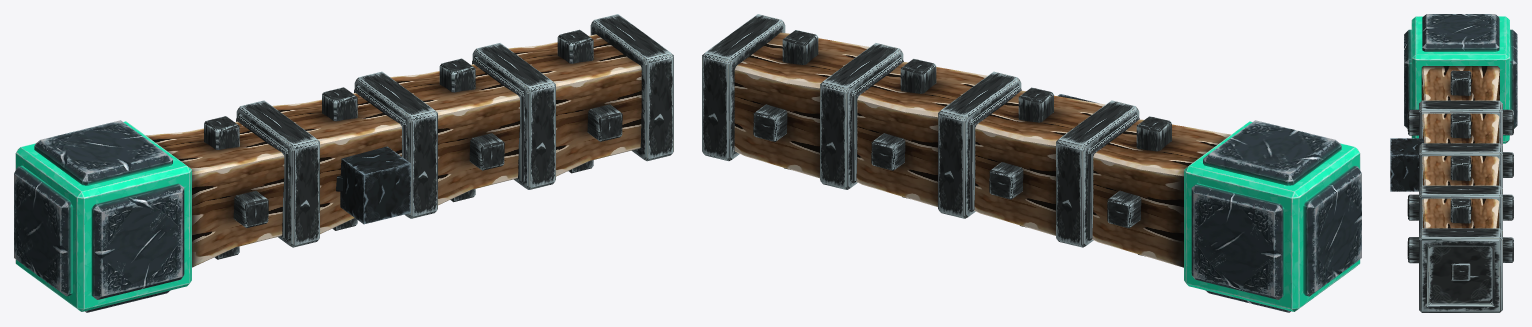
File: step_006.glb
3 renders of one model, left to right at view 1: azimuth 30°, elevation 25°; view 2: azimuth 150°, elevation 25°; view 3: azimuth 270°, elevation 25°, orthographic. The views are drawn at different scales.
Parts seen in each view (by area): view 1: SingleWoodenBlock_12c9bb10-82ed-4a1a-a479-a46bfc47bf6e, StartingBlock_74c47283-72fb-4408-a40b-371f75eef3d3, StartPoint_87a4f15e-b9b6-4721-ae35-d45cb3f66fa6; view 2: SingleWoodenBlock_12c9bb10-82ed-4a1a-a479-a46bfc47bf6e, StartingBlock_74c47283-72fb-4408-a40b-371f75eef3d3; view 3: SingleWoodenBlock_12c9bb10-82ed-4a1a-a479-a46bfc47bf6e, StartingBlock_74c47283-72fb-4408-a40b-371f75eef3d3, StartPoint_87a4f15e-b9b6-4721-ae35-d45cb3f66fa6.
Part boxes in pixels (x1=…): SingleWoodenBlock_12c9bb10-82ed-4a1a-a479-a46bfc47bf6e: x1=146, y1=14, x2=673, y2=267; StartingBlock_74c47283-72fb-4408-a40b-371f75eef3d3: x1=14, y1=120, x2=191, y2=312; StartPoint_87a4f15e-b9b6-4721-ae35-d45cb3f66fa6: x1=336, y1=146, x2=410, y2=224; SingleWoodenBlock_12c9bb10-82ed-4a1a-a479-a46bfc47bf6e: x1=702, y1=14, x2=1230, y2=267; StartingBlock_74c47283-72fb-4408-a40b-371f75eef3d3: x1=1184, y1=120, x2=1361, y2=312; SingleWoodenBlock_12c9bb10-82ed-4a1a-a479-a46bfc47bf6e: x1=1407, y1=66, x2=1513, y2=312; StartingBlock_74c47283-72fb-4408-a40b-371f75eef3d3: x1=1404, y1=14, x2=1517, y2=143; StartPoint_87a4f15e-b9b6-4721-ae35-d45cb3f66fa6: x1=1390, y1=138, x2=1423, y2=191.
Size of the model in its own units: 5.18 by 1.13 by 1.26.
3 materials, 3 textured.
